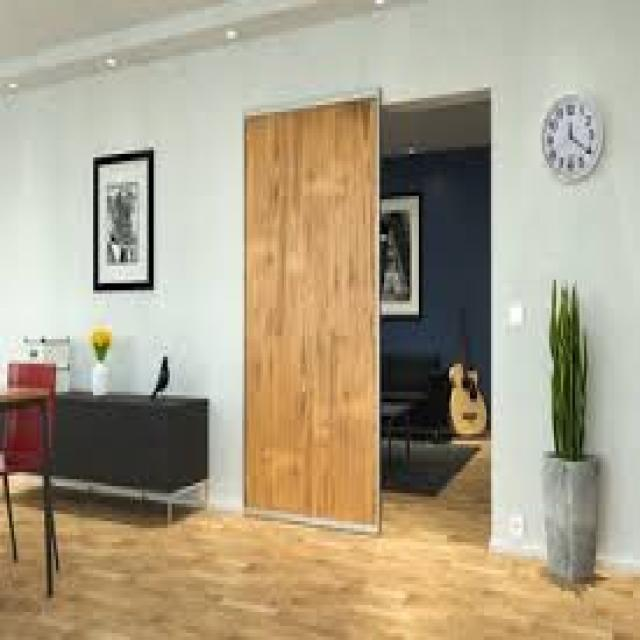door: (243, 93, 381, 533)
